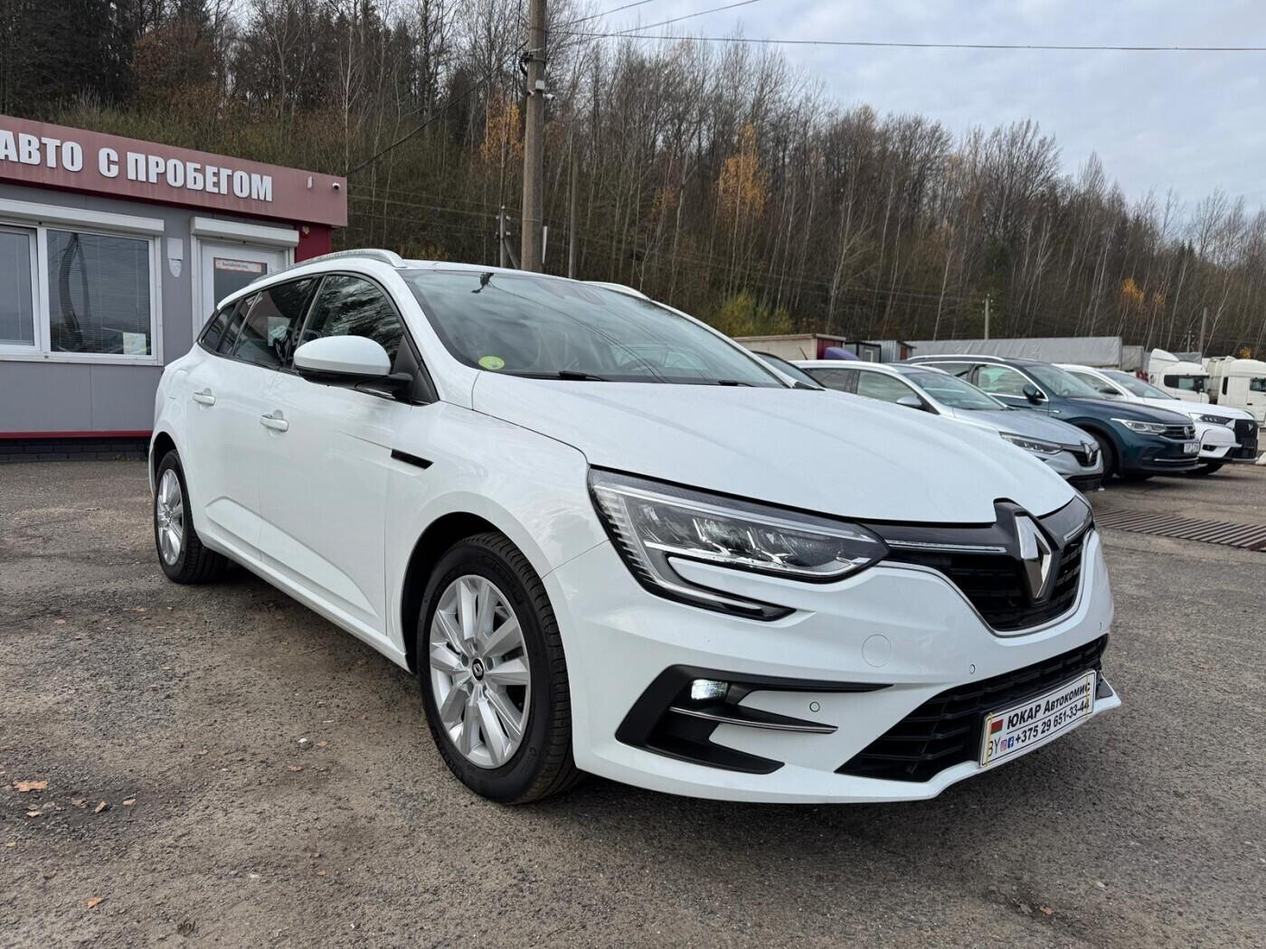Megane_2020: (145, 247, 1125, 811)
